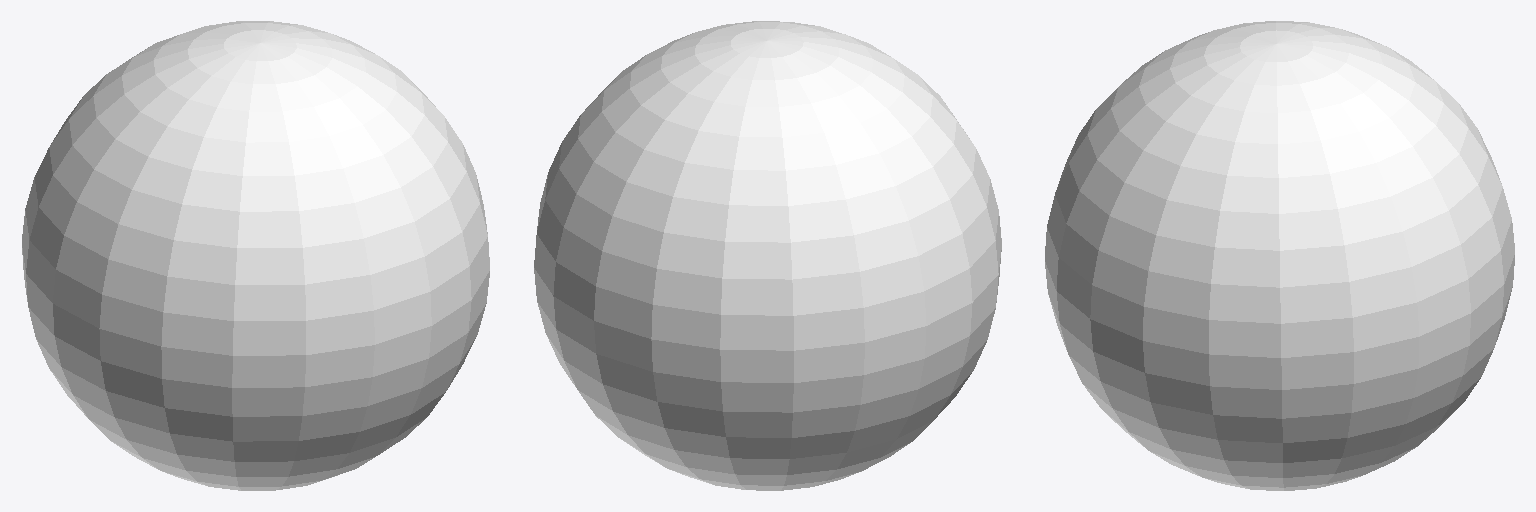
File: glassSphere.obj
3 views of the same model, side by side, from view 1: azimuth 30°, elevation 25°; view 2: azimuth 150°, elevation 25°; view 3: azimuth 270°, elevation 25° (orthographic).
Visible parts, largest first — view 1: sphere; view 2: sphere; view 3: sphere.
Part boxes in pixels (x1,y1,x2,y2): sphere: (22, 21, 489, 490); sphere: (534, 21, 1001, 490); sphere: (1045, 21, 1514, 490).
Bounding box in the file's own units: 2 × 2 × 2.